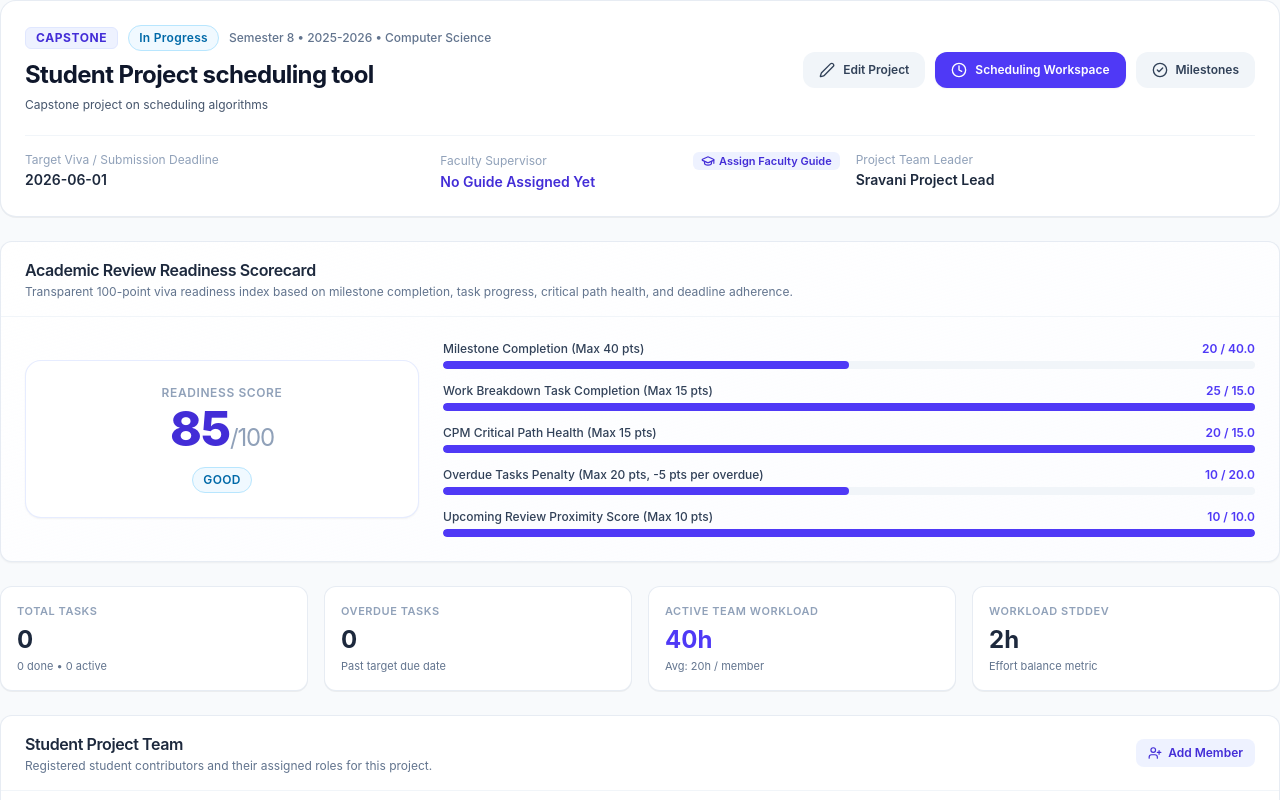
Test: Add Team Member Feature › renders Add Member button for project owner and opens modal with selectable students
Expected: the heading "Student Project Team" is shown, top-left (25, 734), bottom-right (183, 754)
Click the button "Add Member": {"x": 1196, "y": 753} top-left (1136, 739), bottom-right (1255, 767)
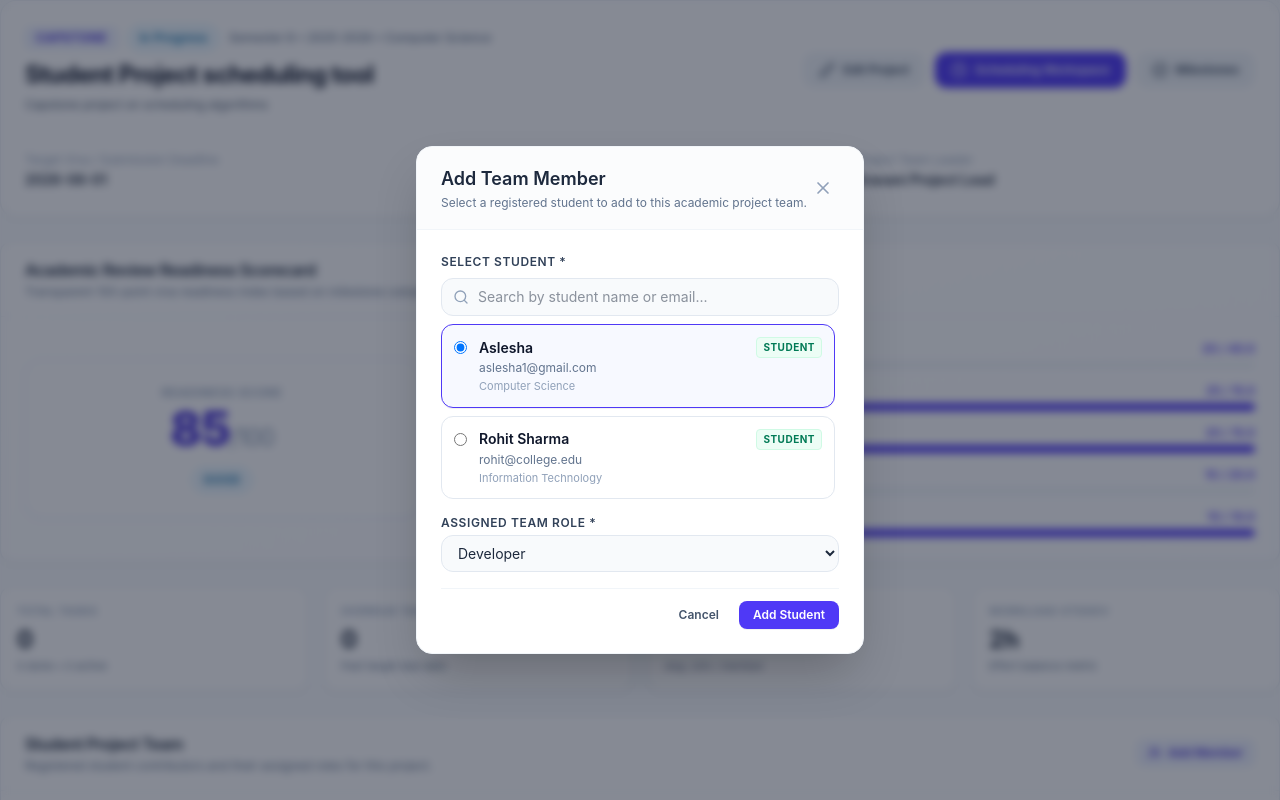
Now the text "Select a registered student to add to this academic project team." is shown, box top-left (441, 195), bottom-right (807, 211)
Now the text "Aslesha" is shown, box top-left (479, 338), bottom-right (533, 358)
Now the text "aslesha1@gmail.com" is shown, box top-left (479, 360), bottom-right (597, 375)
